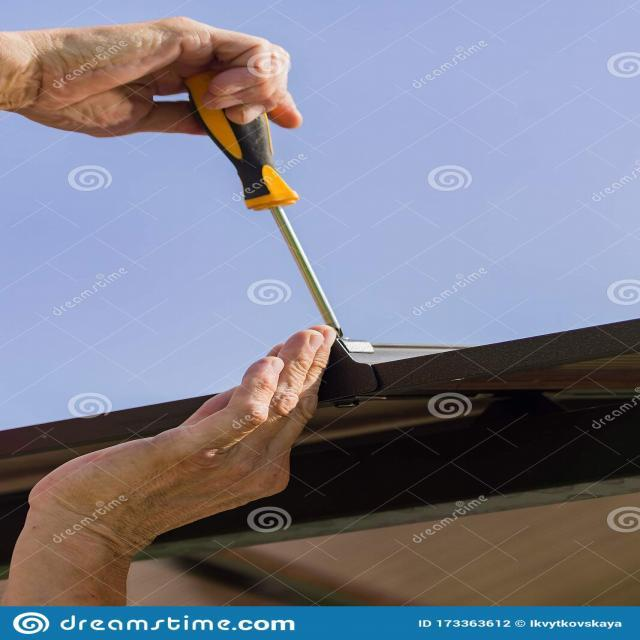screwdriver: (180, 58, 348, 349)
